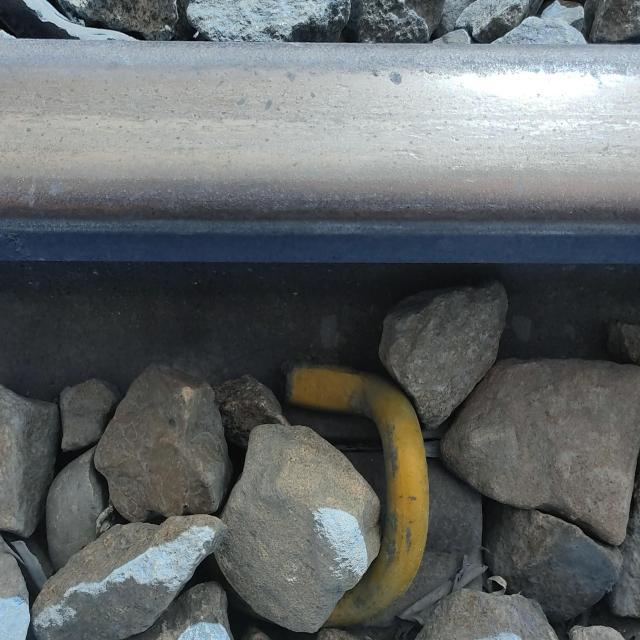Good Fasteners: (261, 345, 466, 640)
